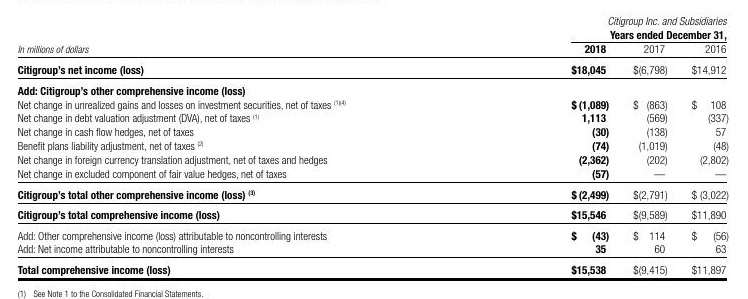table: (0, 0, 748, 299)
